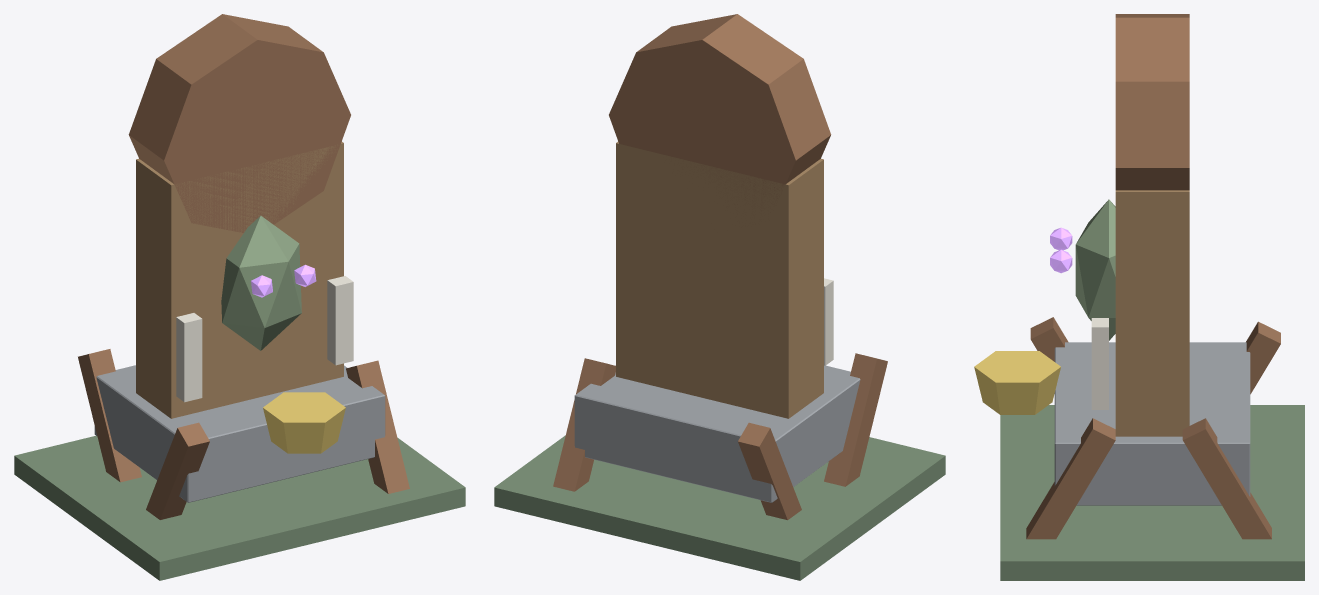
File: swamp_shrine_landmark.glb
3 renders of one model, left to right at view 1: azimuth 30°, elevation 25°; view 2: azimuth 150°, elevation 25°; view 3: azimuth 270°, elevation 25°, orthographic. The views are drawn at different scales.
Parts seen in each view (by area): view 1: mud_pool; view 2: mud_pool; view 3: mud_pool.
Part boxes in pixels (x1,y1,x2,y2): mud_pool: (14,14,465,580); mud_pool: (494,14,945,580); mud_pool: (974,14,1304,580).
Size of the model in its own units: 1.7 by 2.46 by 1.52.
